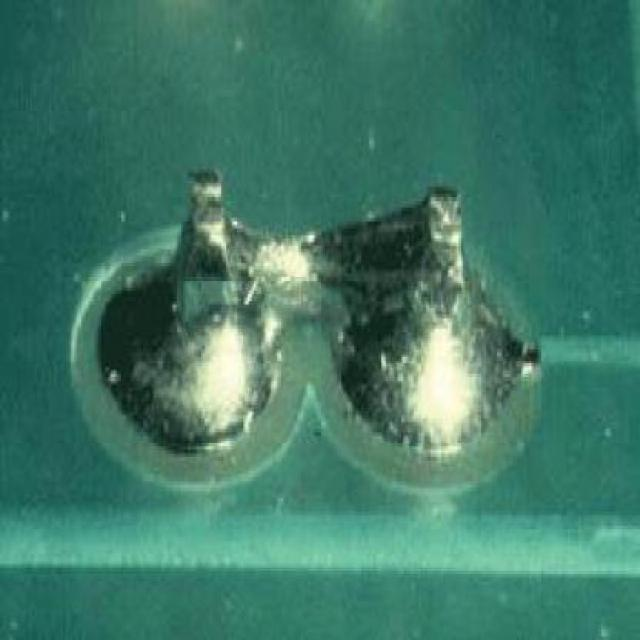Soldering shorted: (88, 159, 540, 453)
